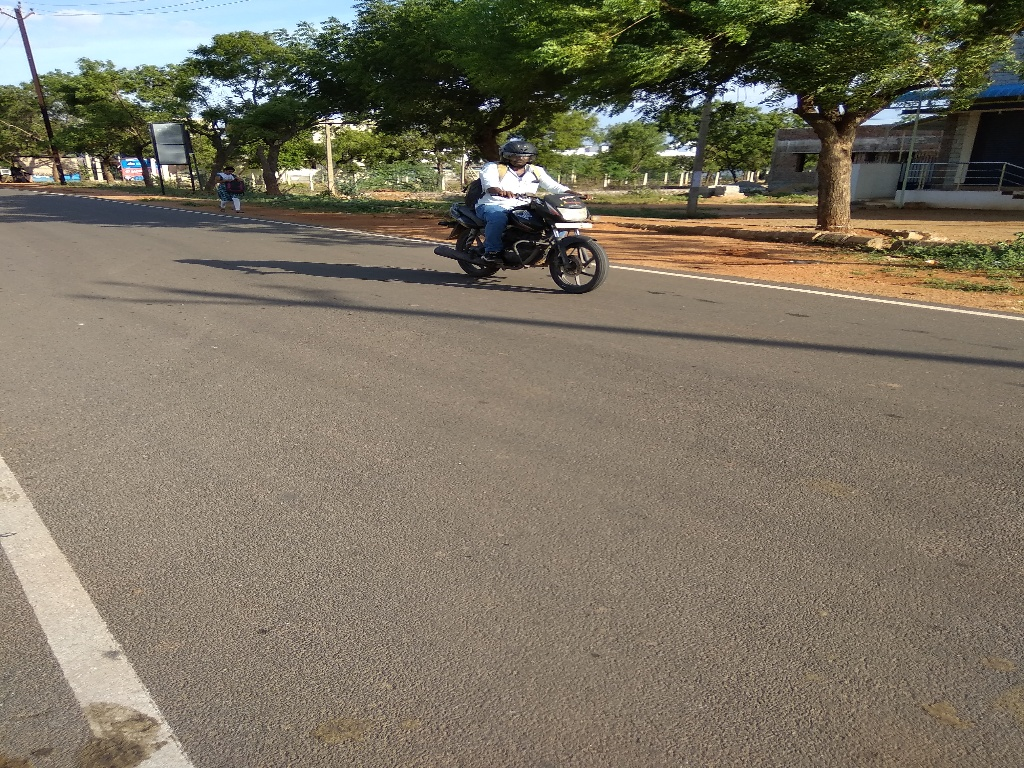biker: (417, 110, 632, 302)
helmet: (493, 125, 543, 179)
